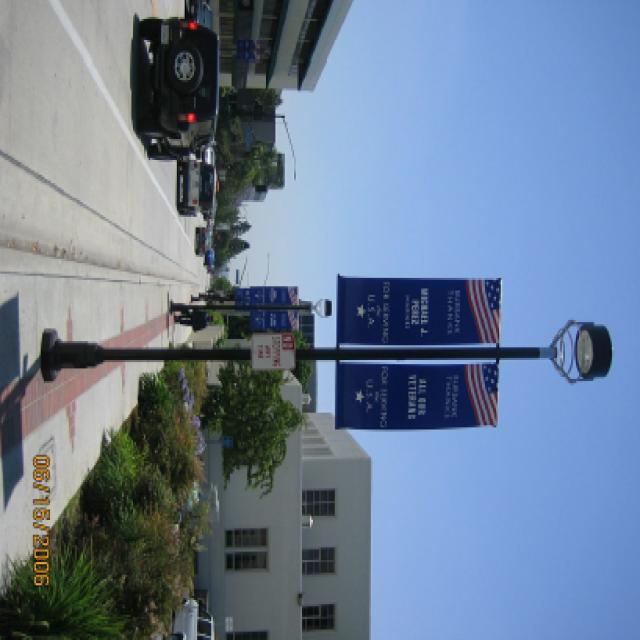Electric pole: (297, 320, 613, 383), (41, 331, 249, 377)
